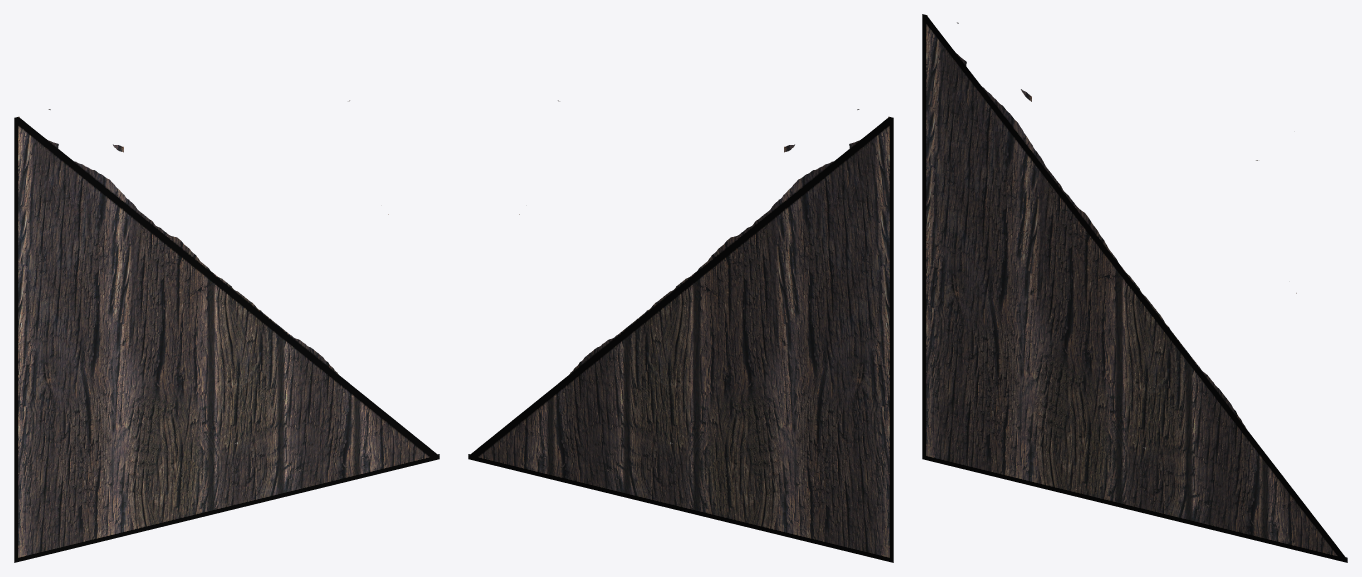
Rendered from Wood flow Difuse.fbx.
3 renders of one model, left to right at view 1: azimuth 30°, elevation 25°; view 2: azimuth 150°, elevation 25°; view 3: azimuth 330°, elevation 25°, orthographic.
Parts seen in each view (by area): view 1: root (×2); view 2: root (×2); view 3: root (×2).
Part boxes in pixels (x1,y1,x2,y2): root (×2): (14,100,439,562); root (×2): (468,100,893,562); root (×2): (922,14,1347,562).
Bounding box in the file's own units: 1.02 × 1.02 × 0.00219.
Materials: 2 (2 with a texture image).
